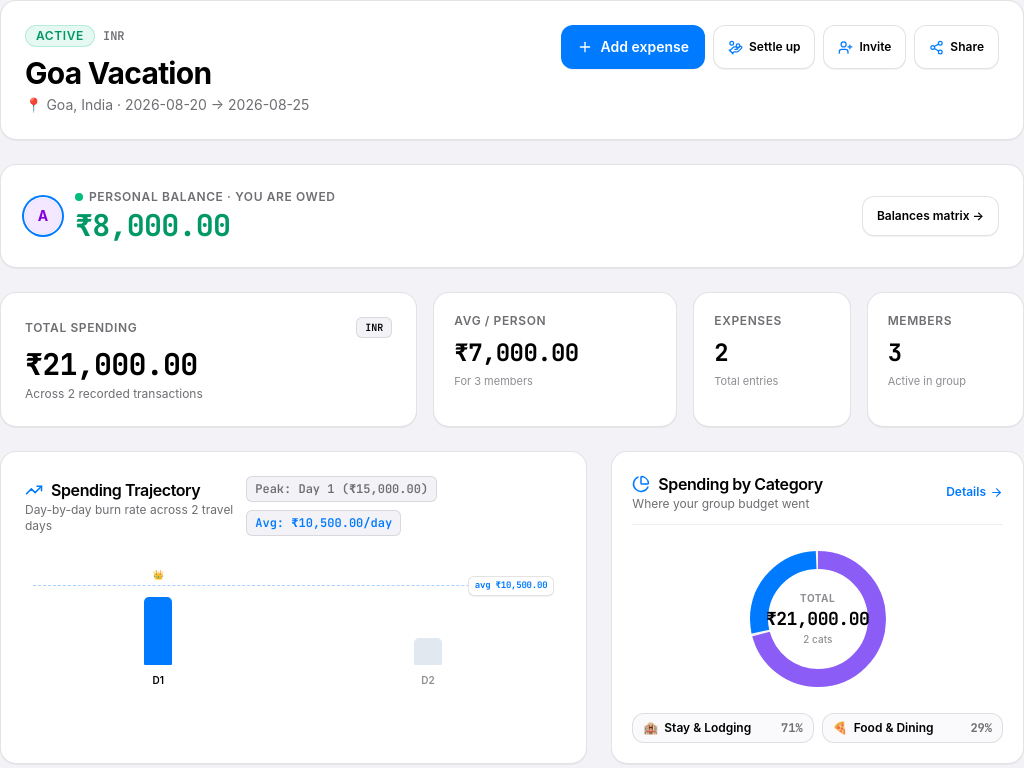
Test: TripOverviewPage - Travel Finance Hub › opens settlement dialog when Settle up quick action is clicked
Click the button with aria-label "Settle debts" at (764, 47), box [713, 25, 816, 69]
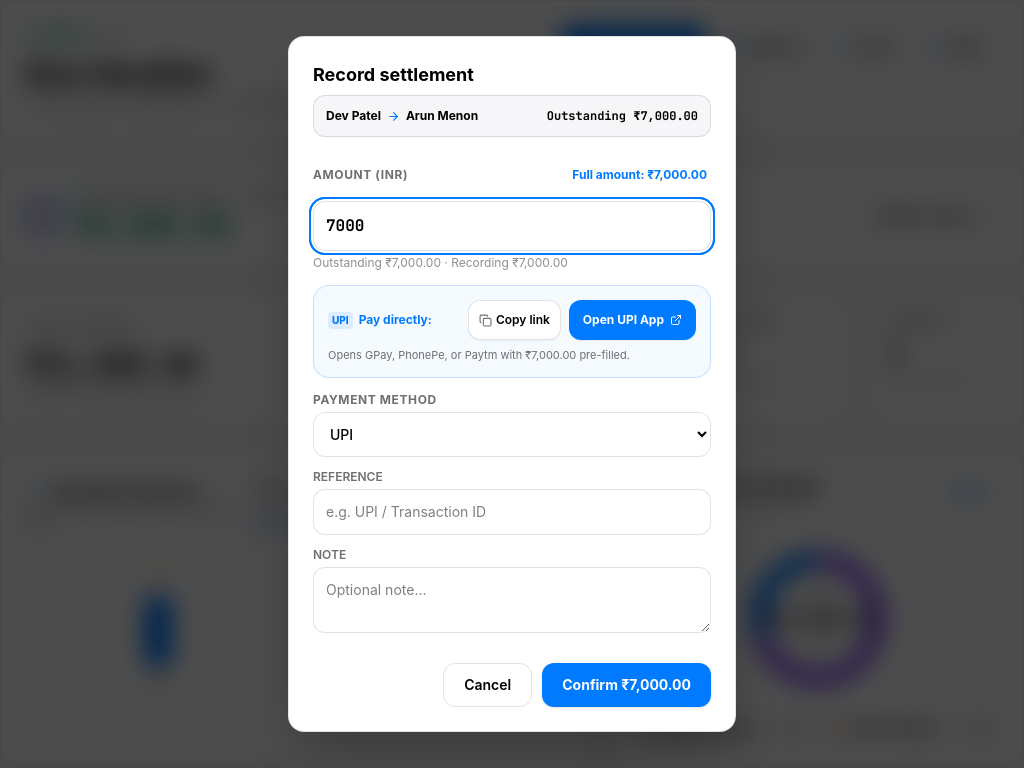
Result: the dialog "Record settlement" is shown
